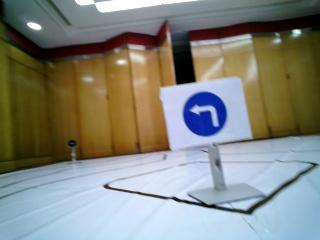left: (157, 84, 249, 138)
